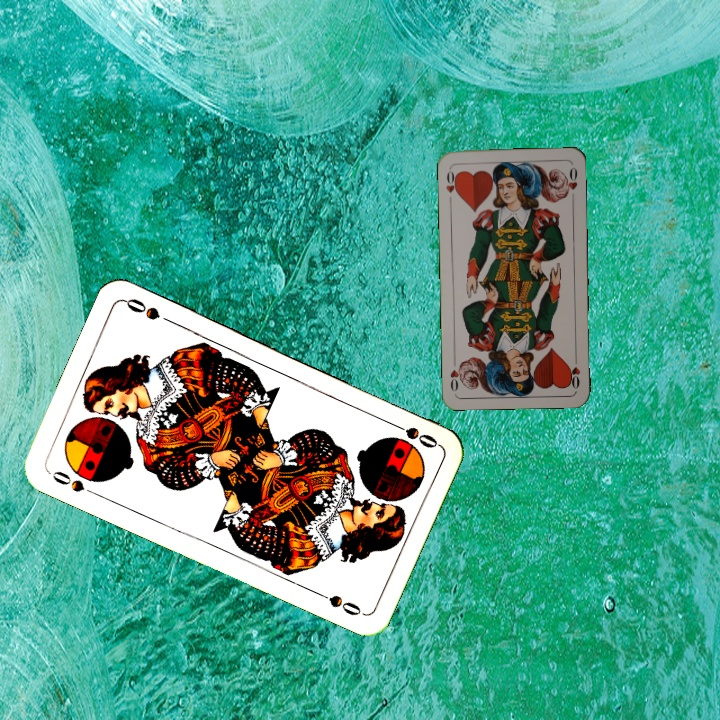HO: (442, 165, 461, 205), (565, 351, 583, 391)
SO: (385, 417, 441, 451), (44, 467, 100, 499)
